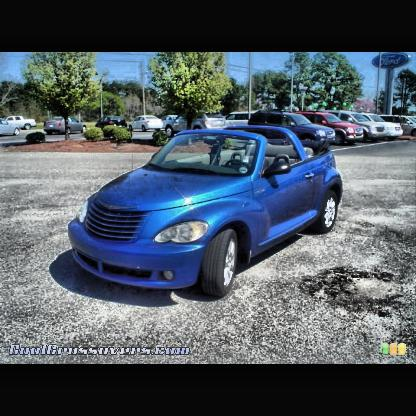Chrysler PT Cruiser Convertible 2008: (68, 127, 342, 298)
